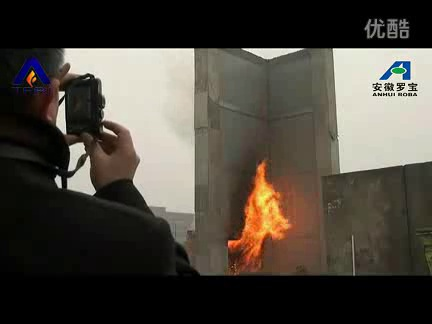fire: (223, 155, 293, 274)
